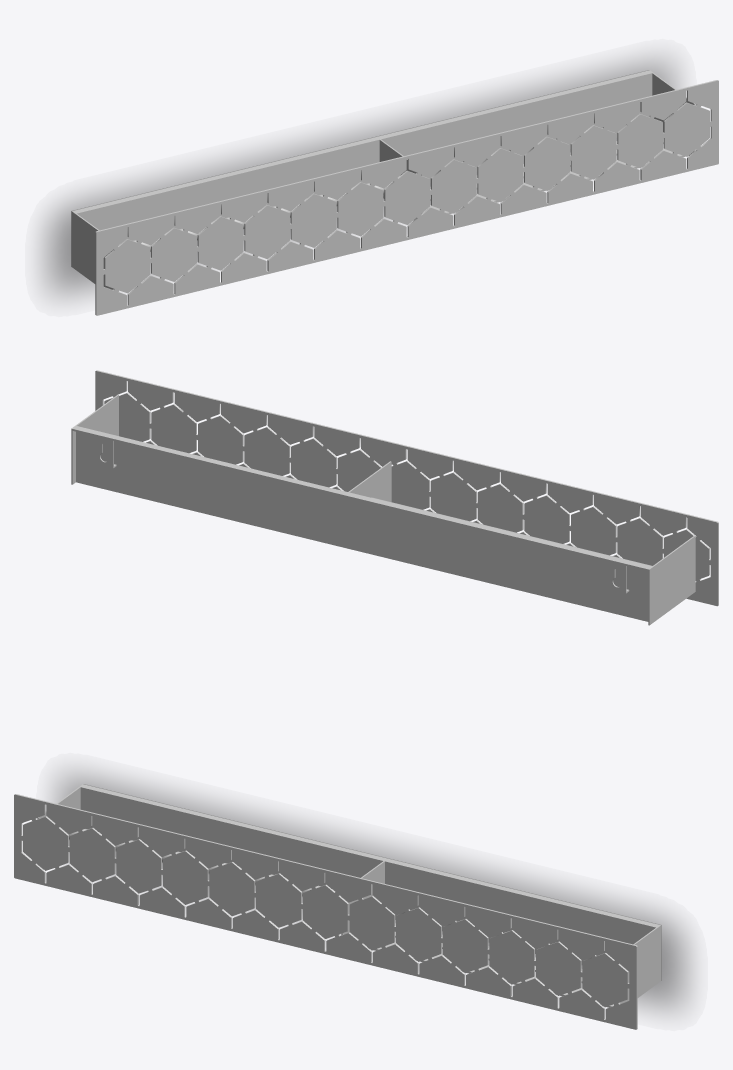
File: bee-double.3c96312ee6.ar.glb
3 views of the same model, one above another, from view 1: azimuth 30°, elevation 25°; view 2: azimuth 150°, elevation 25°; view 3: azimuth 330°, elevation 25° (orthographic).
Visible parts, largest first — view 1: NAUO1, object 3; view 2: NAUO1, NAUO4; view 3: NAUO1, object 3.
Part boxes in pixels (bbox=[...]): NAUO1: bbox=[71, 70, 718, 315]; object 3: bbox=[42, 59, 678, 296]; NAUO1: bbox=[71, 370, 718, 625]; NAUO4: bbox=[95, 436, 629, 593]; NAUO1: bbox=[14, 784, 661, 1029]; object 3: bbox=[54, 773, 690, 1010].
Size of the model in its own units: 0.78 by 0.17 by 0.092.
Materials: 2 (1 with a texture image).
